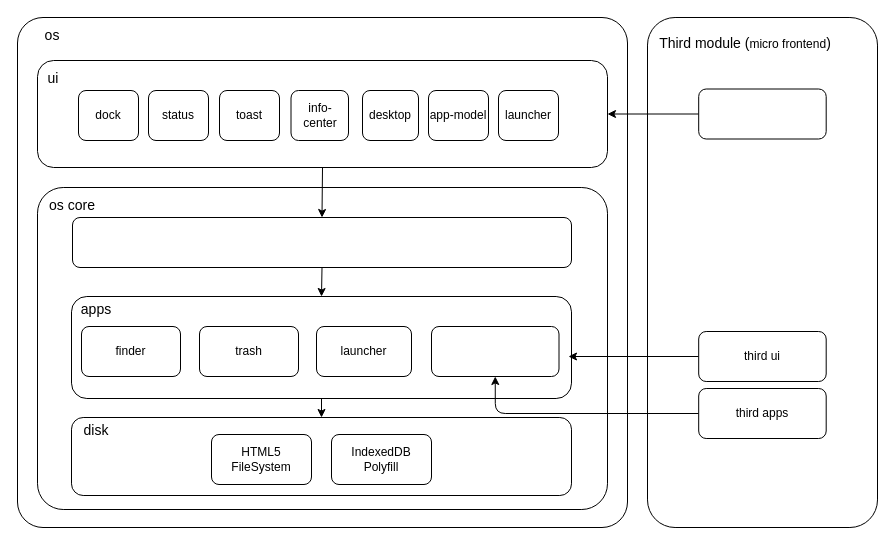
This 895x545 diagram has some shape labels left out. Each missing label, with the centre of its shape:
AppManager: the point at 322,242
other apps: the point at 494,351
third theme: the point at 762,113
